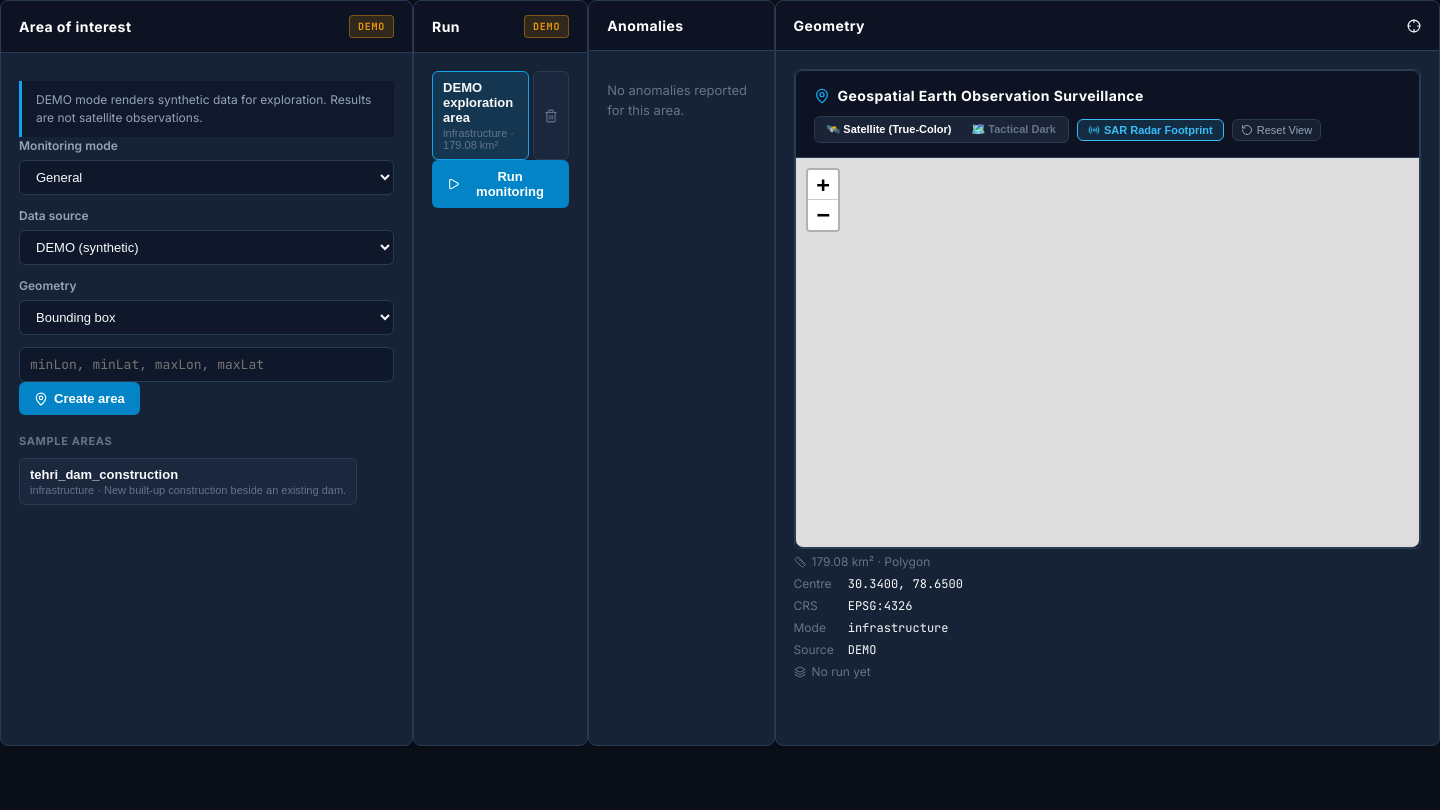
Test case: AoiMonitoringView › deletes an area and clears the selection
Click the button named "delete": (551,116) [533,71,569,160]
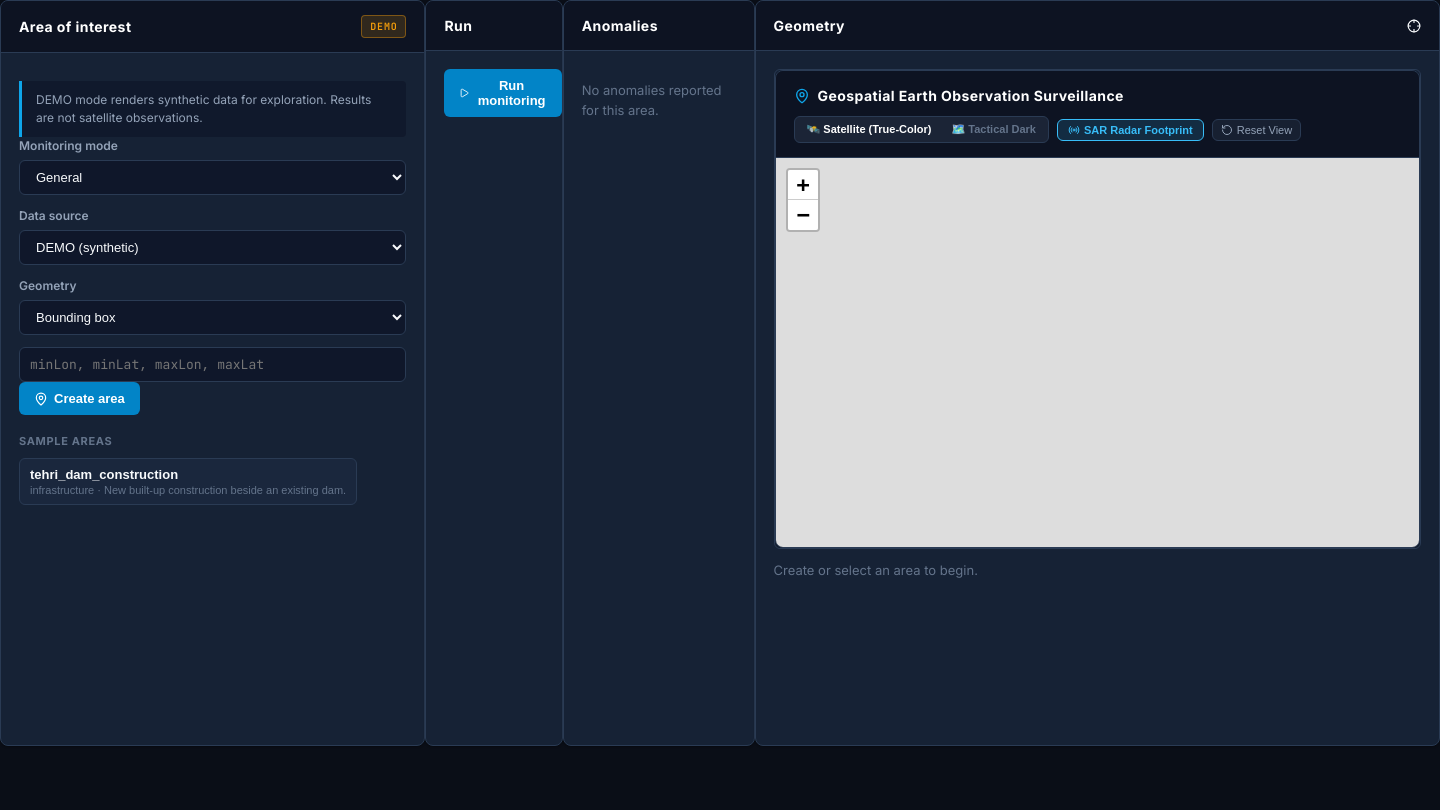
Result: the button "DEMO exploration area" is gone
